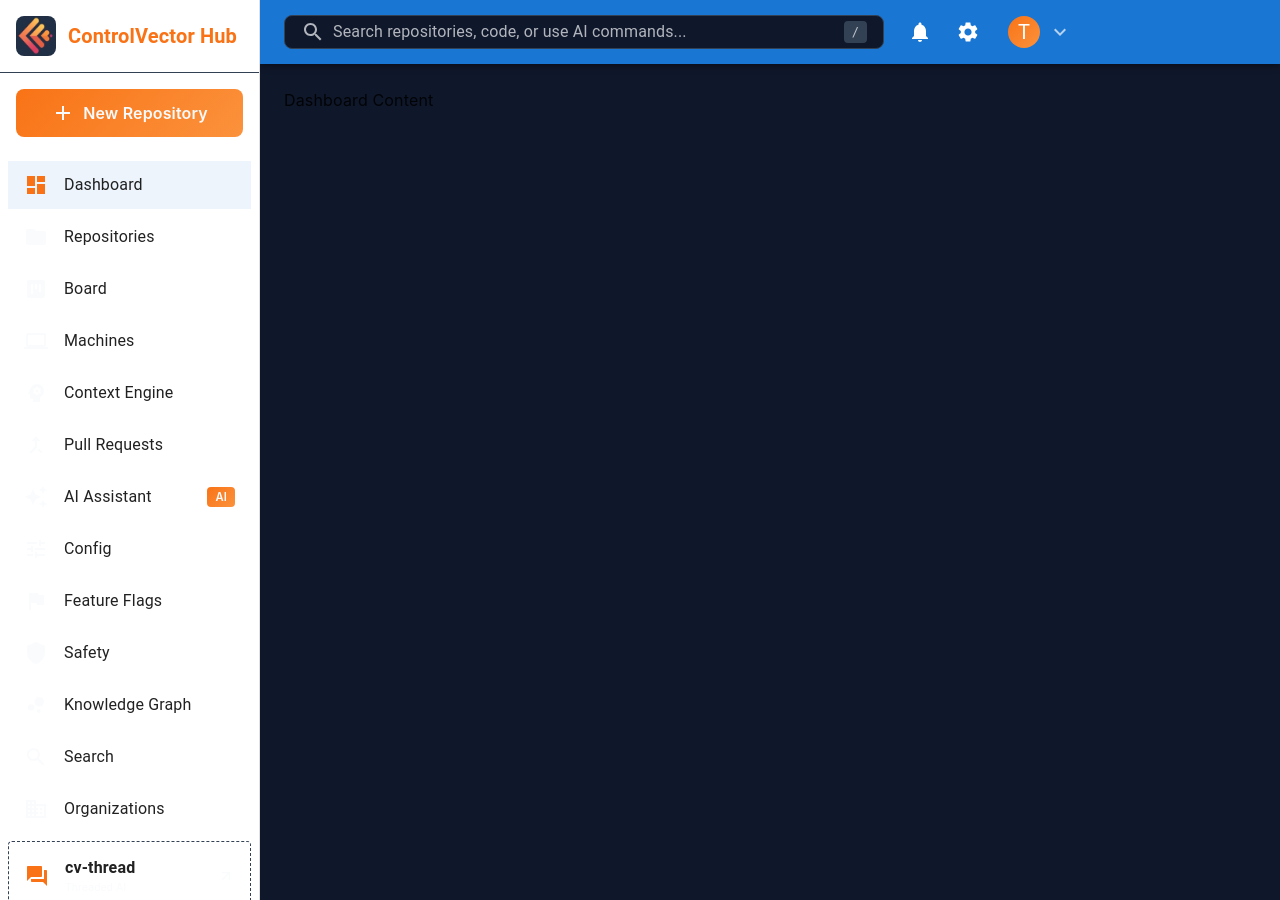
Test: Layout Navigation › navigates to Safety when clicked
The width and height of the screenshot is (1280, 900).
Click the button "Safety". click: click(67, 653)
box: x1=24 y1=641 x2=110 y2=665
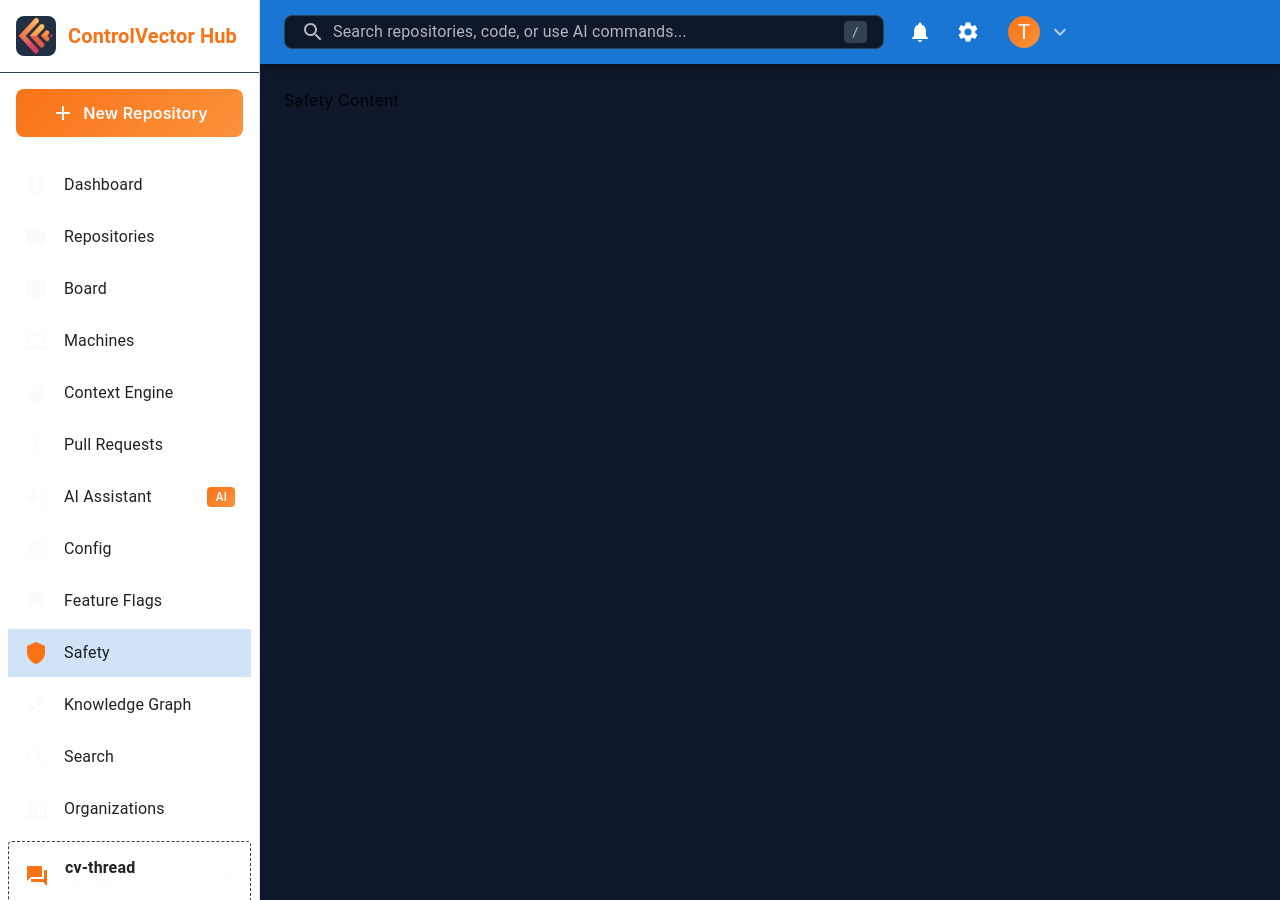
expect the text "Safety Content" is shown: met, box x1=284 y1=90 x2=399 y2=110
